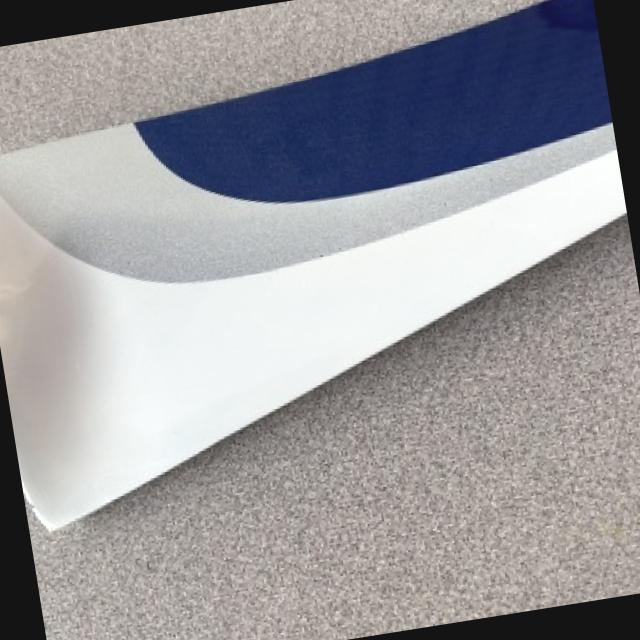healthy: (0, 123, 627, 524)
